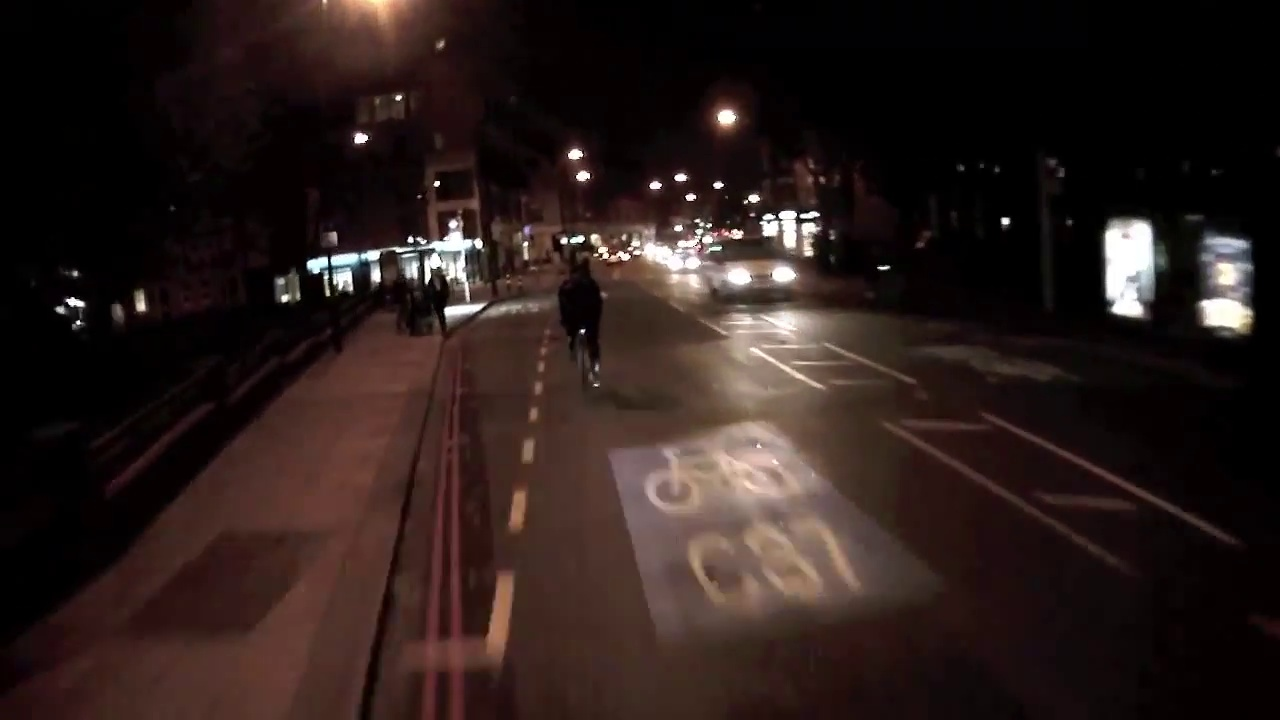cyclist_back: (550, 253, 616, 401)
